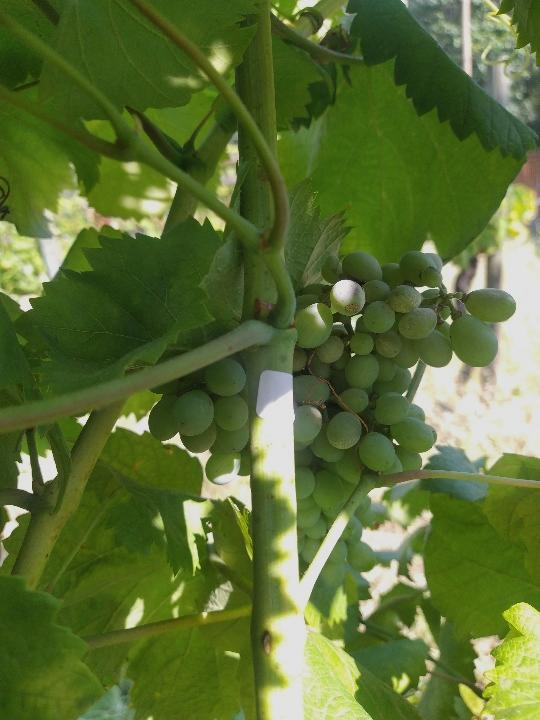grape: (145, 250, 522, 588)
